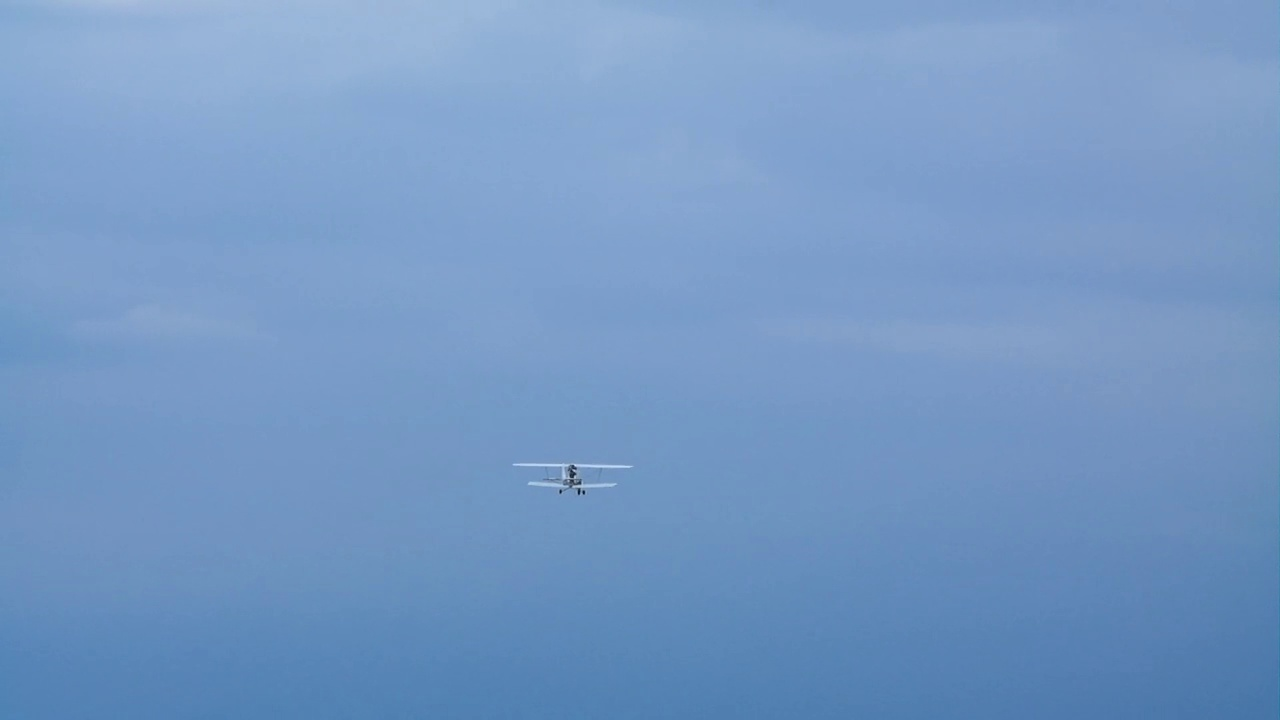plane: (510, 459, 634, 494)
